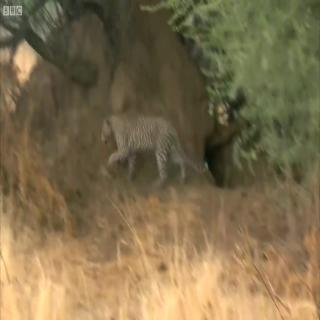Leopard: (89, 68, 204, 162)
